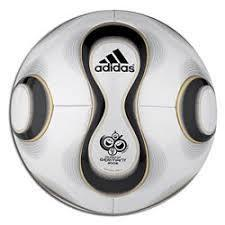Sports-Ball: (9, 11, 218, 217)
